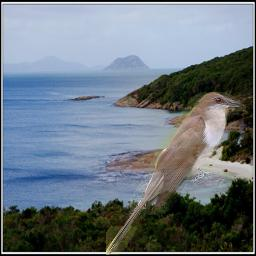Cuckoo: (106, 92, 246, 255)
